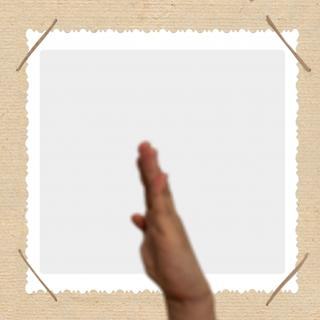RIGHT: (126, 137, 214, 299)
